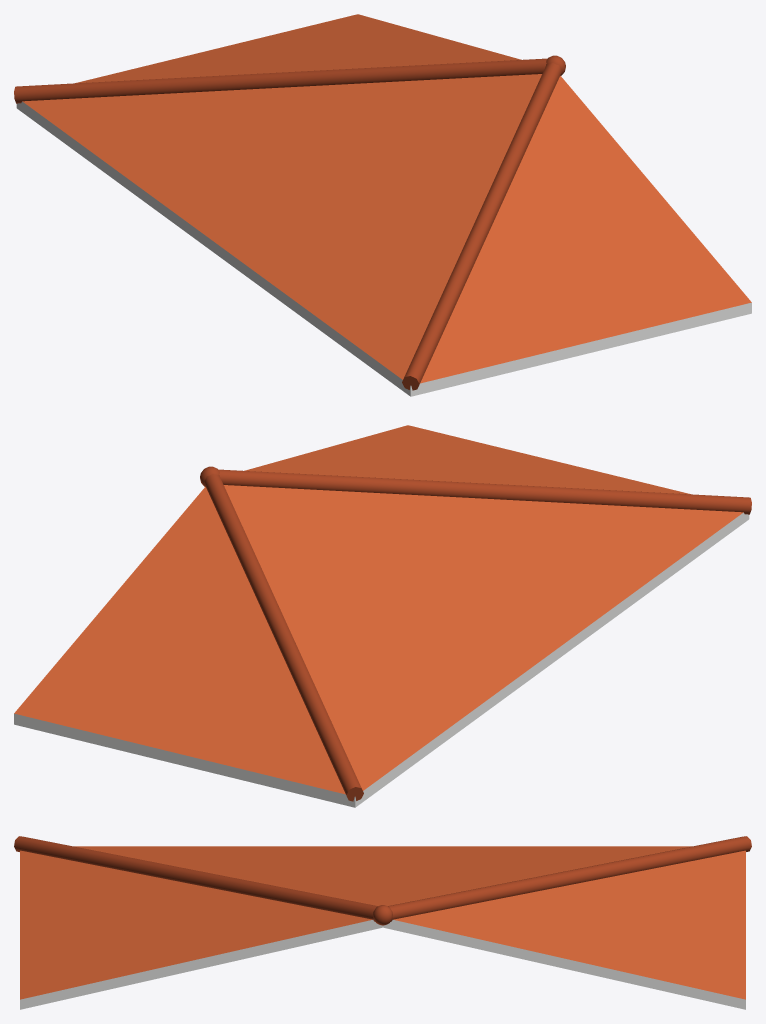
Rendered from telhado_quatro_aguas_ponta_v6_i25.glb.
The picture shows the model from 3 angles, top to bottom: view 1: azimuth 30°, elevation 25°; view 2: azimuth 150°, elevation 25°; view 3: azimuth 270°, elevation 25°; orthographic projection. The views are drawn at different scales.
Parts seen in each view (by area): view 1: telhado_quatro_aguas_ponta_v6_i25; view 2: telhado_quatro_aguas_ponta_v6_i25; view 3: telhado_quatro_aguas_ponta_v6_i25.
Boxes of the visible parts, bbox=[...] form: telhado_quatro_aguas_ponta_v6_i25: bbox=[14, 14, 751, 396]; telhado_quatro_aguas_ponta_v6_i25: bbox=[14, 425, 751, 807]; telhado_quatro_aguas_ponta_v6_i25: bbox=[14, 836, 751, 1009].
Size of the model in its own units: 3.13 by 0.9478 by 6.1.
